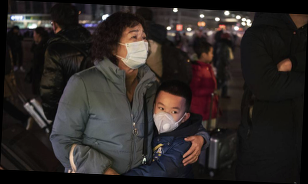with_mask: (117, 27, 149, 70), (151, 100, 185, 135)
without_mask: (205, 48, 215, 62)
